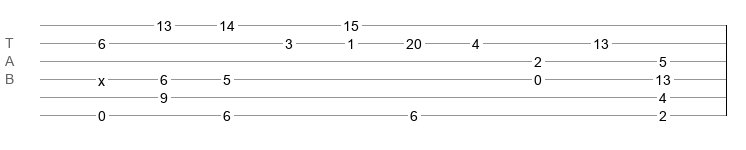0: (98, 108, 106, 118), (534, 72, 542, 82)
1: (347, 36, 355, 46)
13: (156, 18, 172, 28), (593, 36, 609, 46), (655, 72, 671, 82)
14: (219, 18, 235, 28)
15: (343, 18, 359, 28)
2: (534, 54, 542, 64), (659, 108, 667, 118)
20: (406, 36, 422, 46)
3: (285, 36, 293, 46)
4: (472, 36, 480, 46), (659, 90, 667, 100)
5: (223, 72, 231, 82), (659, 54, 667, 64)
6: (98, 36, 106, 46), (160, 72, 168, 82), (223, 108, 231, 118), (410, 108, 418, 118)
9: (160, 90, 168, 100)
x: (98, 73, 105, 81)
